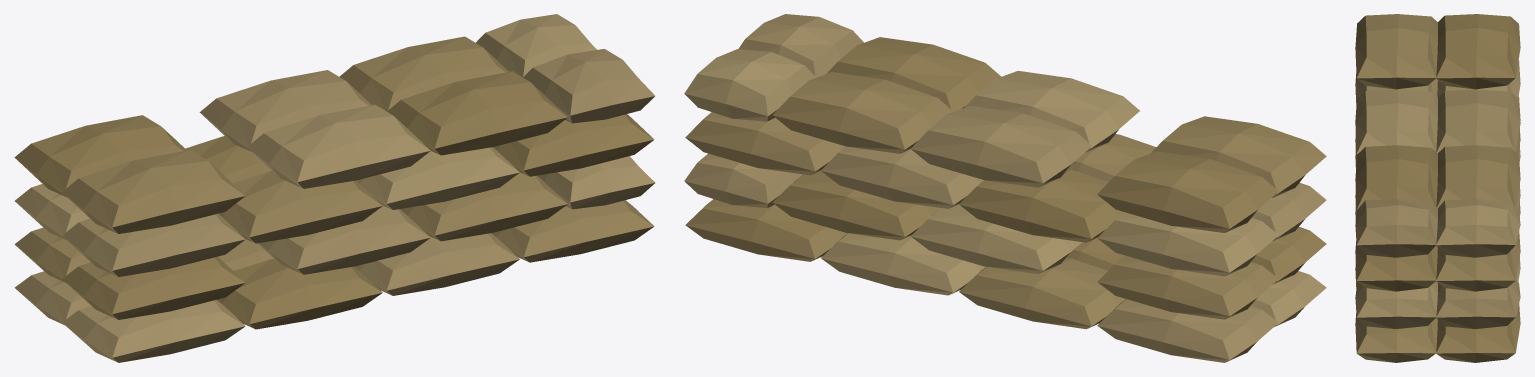
File: sandbags.glb
The picture shows the model from 3 angles, left to right: view 1: azimuth 30°, elevation 25°; view 2: azimuth 150°, elevation 25°; view 3: azimuth 270°, elevation 25°; orthographic projection. The views are drawn at different scales.
Visible parts, largest first — view 1: lod0; view 2: lod0; view 3: lod0.
Boxes of the visible parts, x1,y1,x2,y2 form: lod0: [14, 14, 655, 362]; lod0: [684, 14, 1326, 362]; lod0: [1355, 14, 1520, 362].
Size of what is drawn, in the model's own units: 3.2 by 0.988 by 1.
